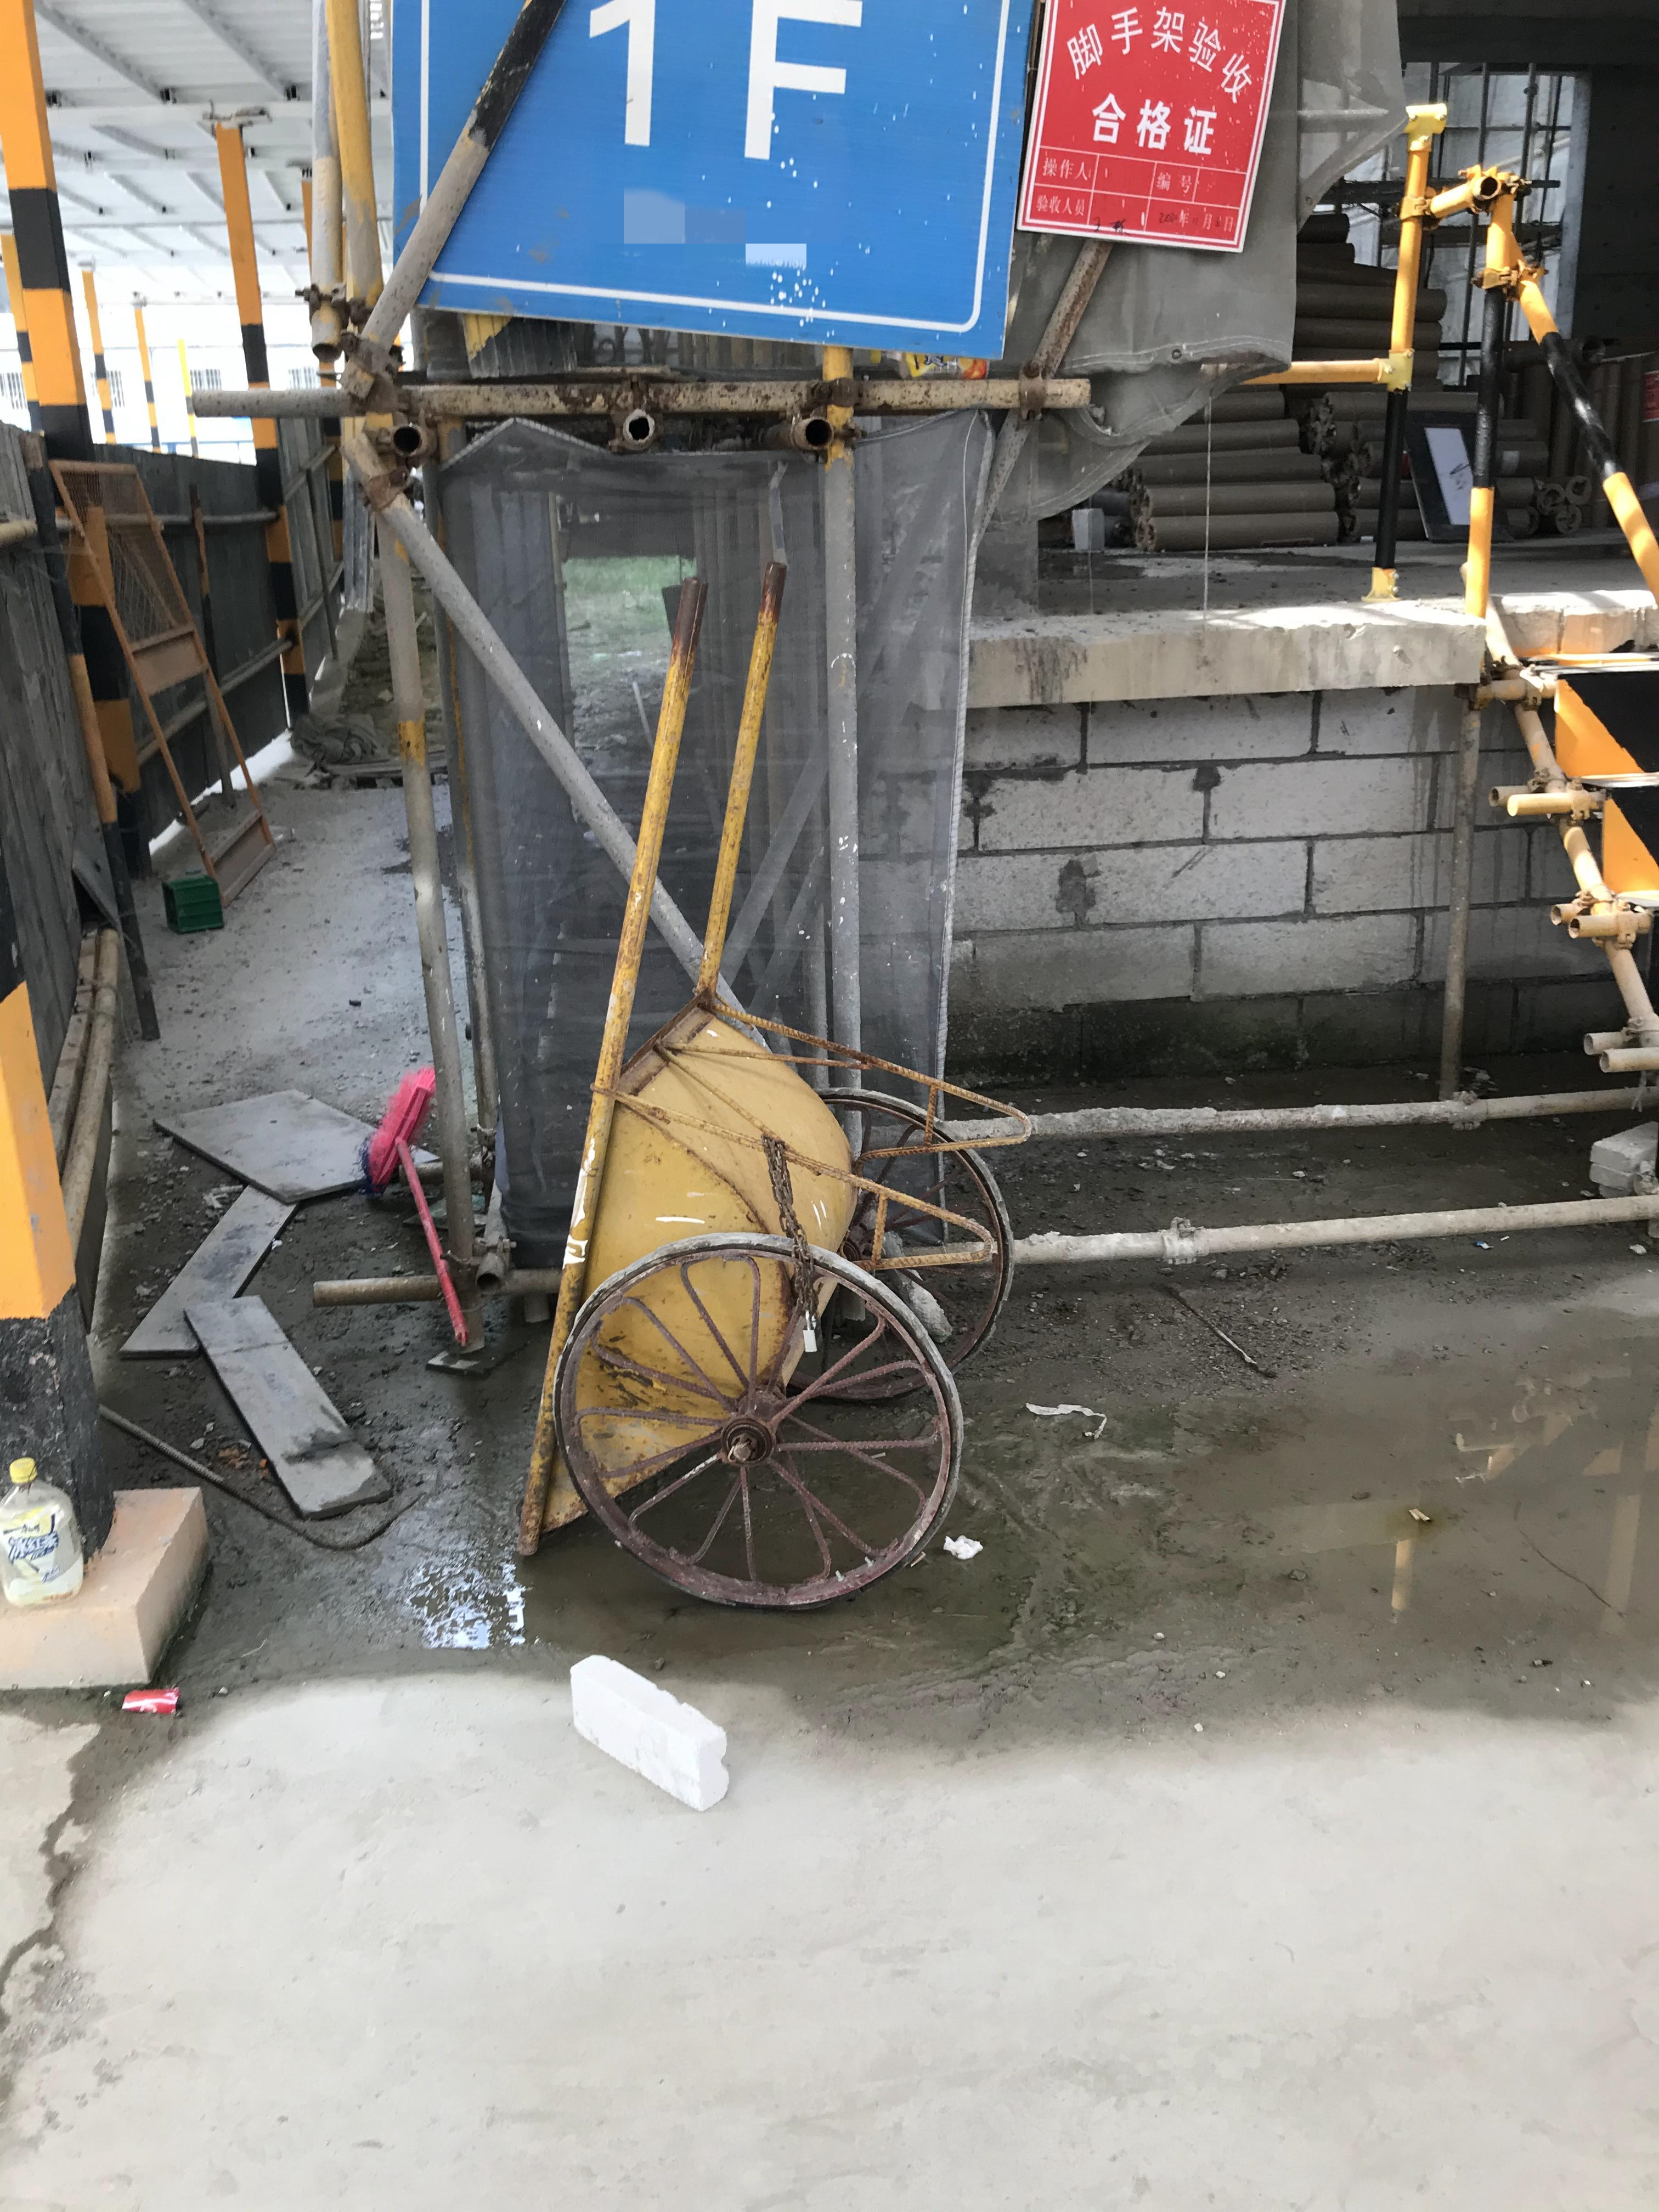handcart: (511, 561, 1014, 1611)
